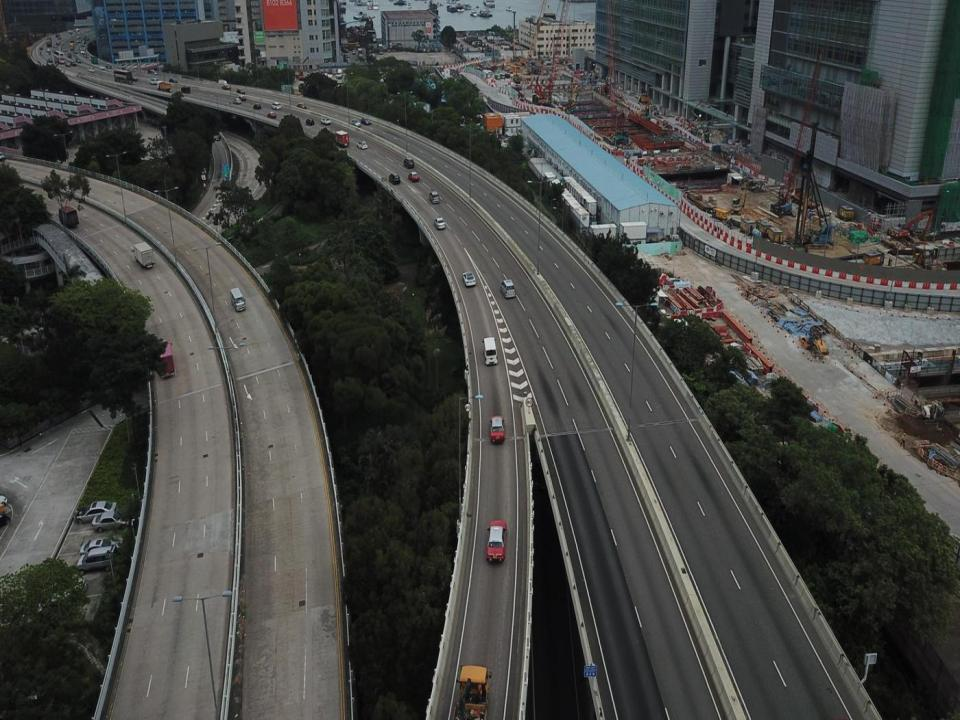bus: (113, 68, 132, 86), (54, 49, 65, 64)
car: (75, 544, 116, 576), (485, 518, 509, 565), (74, 499, 119, 523), (80, 538, 124, 558), (90, 512, 131, 532), (489, 413, 508, 445), (499, 277, 517, 299), (462, 269, 478, 287), (407, 170, 420, 184), (402, 156, 415, 170), (433, 217, 446, 230), (389, 172, 401, 185), (428, 190, 439, 204), (350, 118, 361, 128), (360, 116, 372, 125), (356, 141, 367, 150), (320, 117, 331, 126), (304, 117, 315, 126), (271, 100, 280, 110), (296, 102, 307, 110), (237, 94, 247, 102), (267, 111, 276, 119), (169, 77, 178, 85), (222, 84, 231, 91), (232, 98, 242, 104), (253, 102, 260, 110), (87, 66, 95, 73), (236, 88, 244, 94), (105, 63, 112, 69), (64, 60, 70, 67), (67, 51, 73, 58), (98, 64, 104, 70), (75, 58, 81, 64), (83, 52, 88, 59), (132, 77, 138, 82), (71, 60, 76, 66)
truck: (450, 663, 496, 719), (151, 338, 177, 379), (131, 241, 156, 270), (57, 204, 79, 229), (332, 130, 350, 147), (156, 80, 172, 94), (90, 55, 98, 65)
van: (481, 336, 498, 366), (229, 286, 246, 312), (180, 85, 192, 93), (150, 78, 159, 85)
